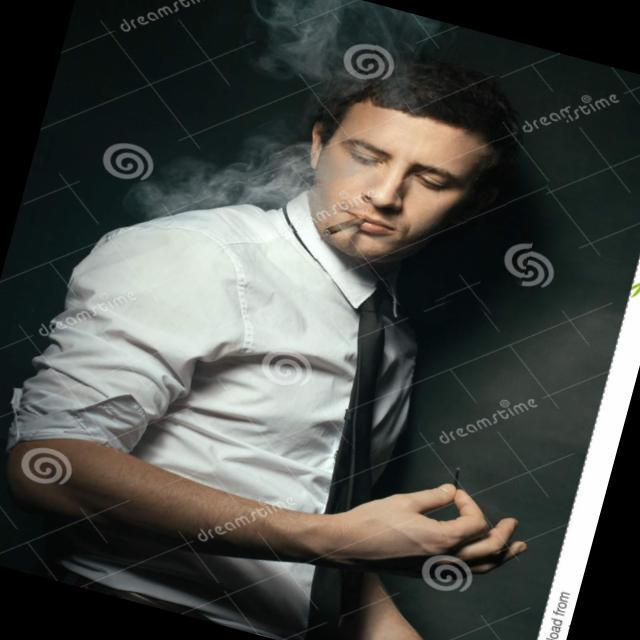cigarette: (288, 194, 364, 252)
